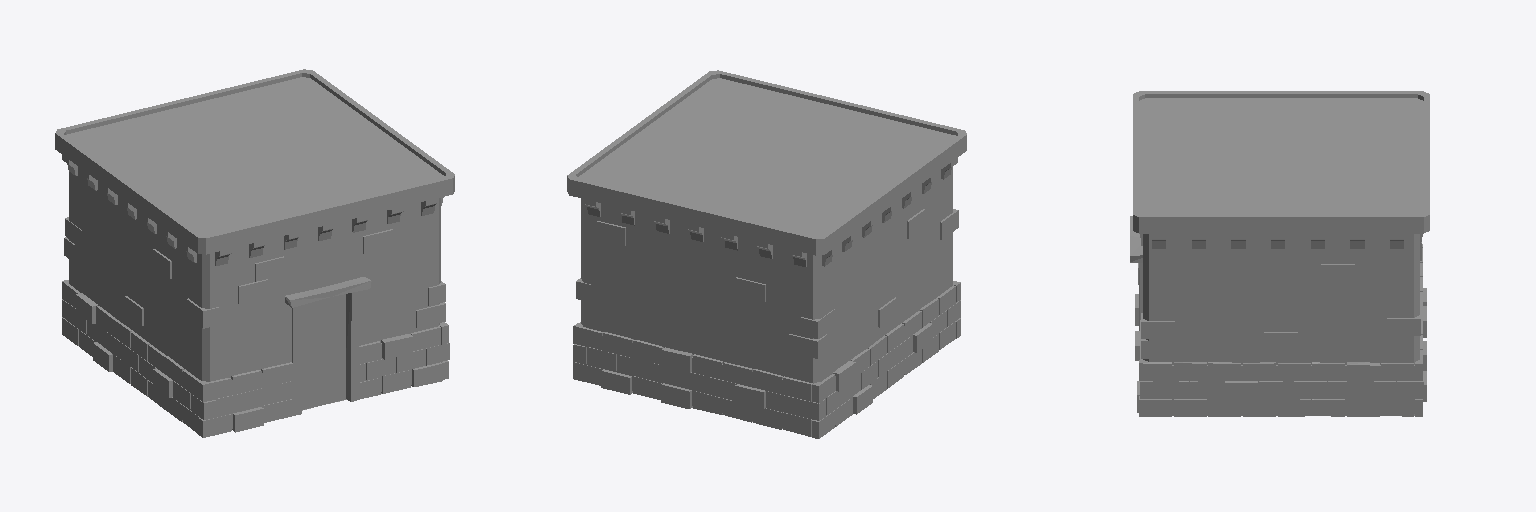
Rendered from 1Story_Base.obj.
The picture shows the model from 3 angles: view 1: azimuth 30°, elevation 25°; view 2: azimuth 150°, elevation 25°; view 3: azimuth 270°, elevation 25°; orthographic projection.
Visible parts, largest first — view 1: 1Story_Base_Cube.055; view 2: 1Story_Base_Cube.055; view 3: 1Story_Base_Cube.055.
Part boxes in pixels (bbox=[...]): 1Story_Base_Cube.055: bbox=[55, 69, 454, 437]; 1Story_Base_Cube.055: bbox=[567, 70, 966, 438]; 1Story_Base_Cube.055: bbox=[1130, 91, 1429, 416].
Bounding box in the file's own units: 2.15 × 1.62 × 2.17.